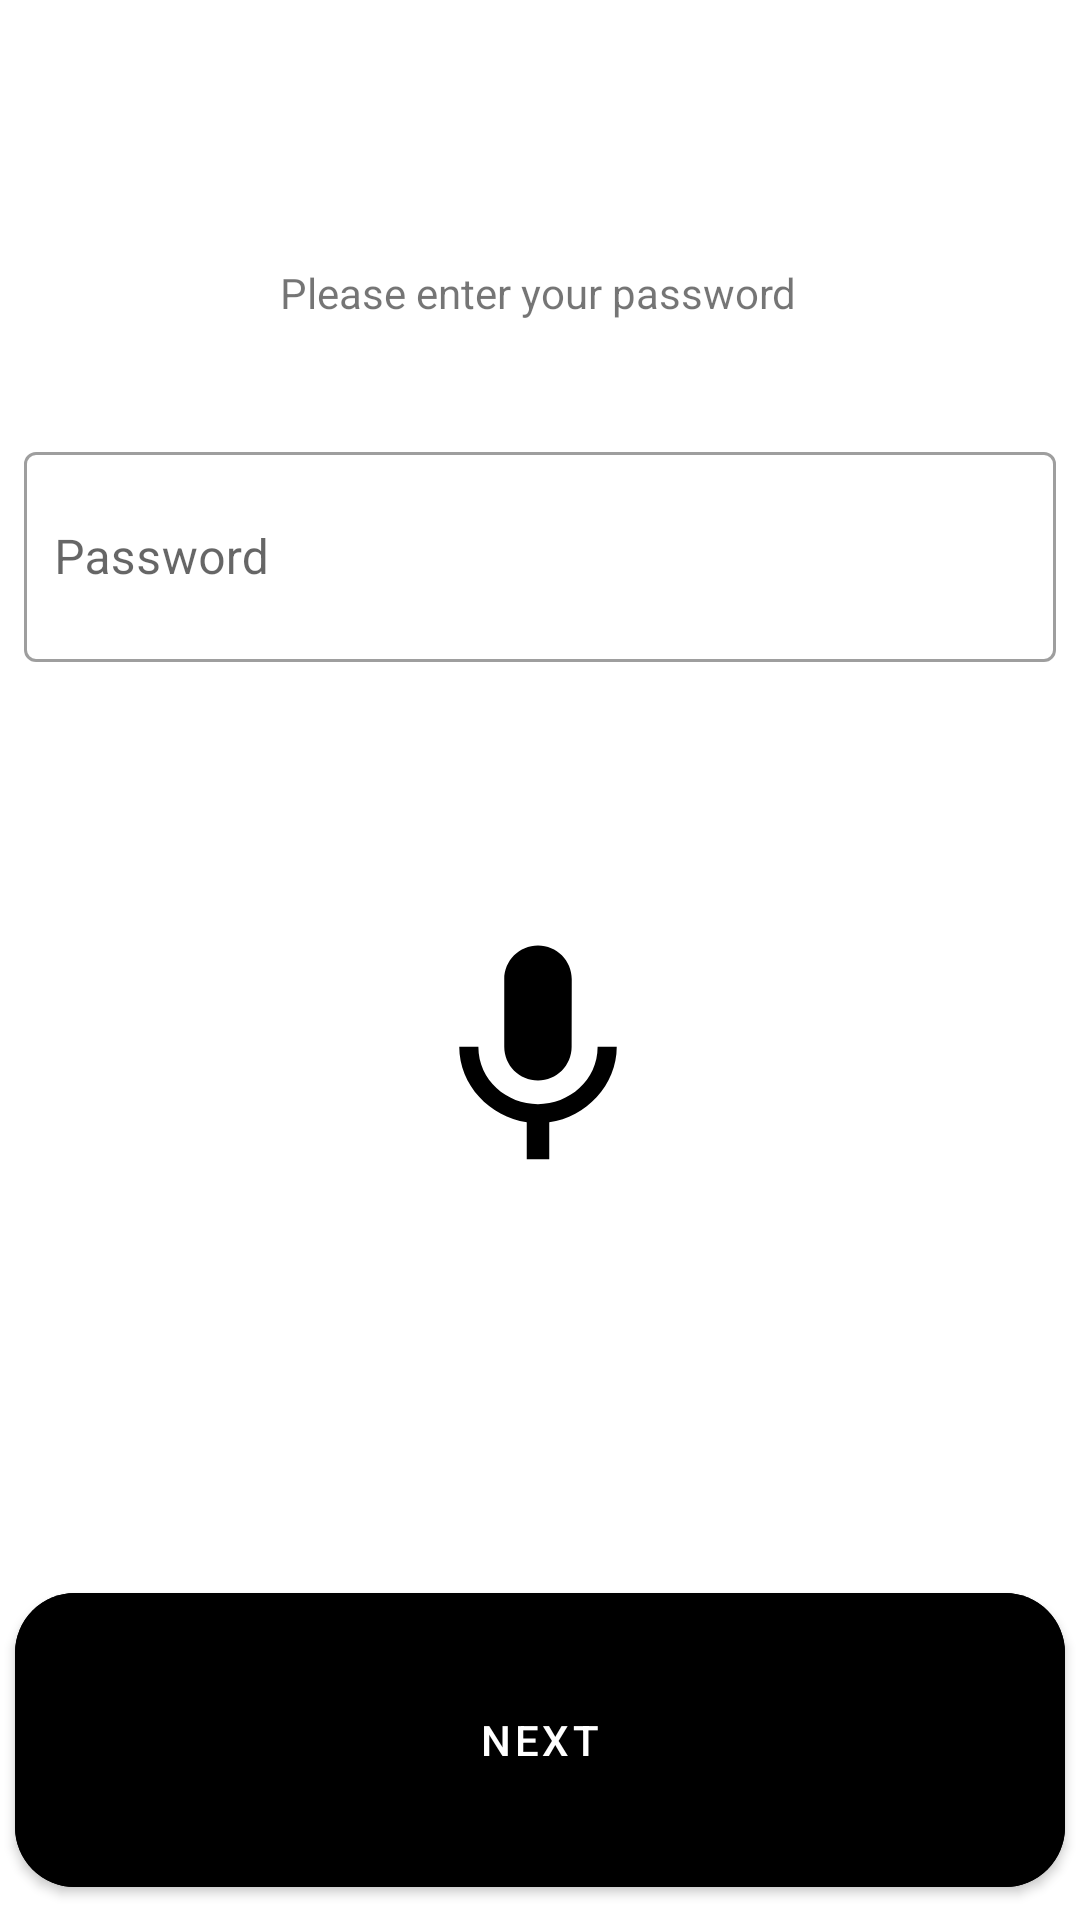

Locate icon controls on the screen. Image size 1080px×1920px, boxes as (x1, y1, x2, y2).
mic: (459, 945, 617, 1160)
